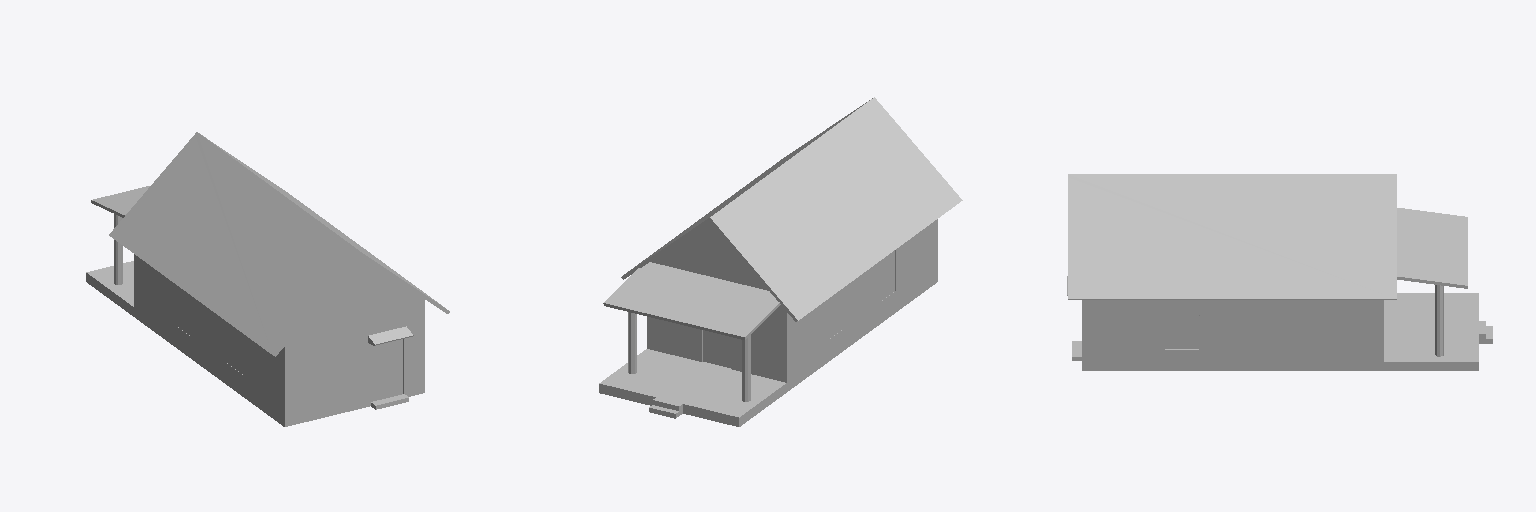
The model's file is house3.obj.
The picture shows the model from 3 angles: view 1: azimuth 30°, elevation 25°; view 2: azimuth 150°, elevation 25°; view 3: azimuth 270°, elevation 25°; orthographic projection.
Parts seen in each view (by area): view 1: house3; view 2: house3; view 3: house3.
Part boxes in pixels (x1,y1,x2,y2): house3: (86, 132, 449, 426); house3: (599, 97, 962, 426); house3: (1067, 174, 1492, 370).
Size of the model in its own units: 24.28 by 21.28 by 50.36.